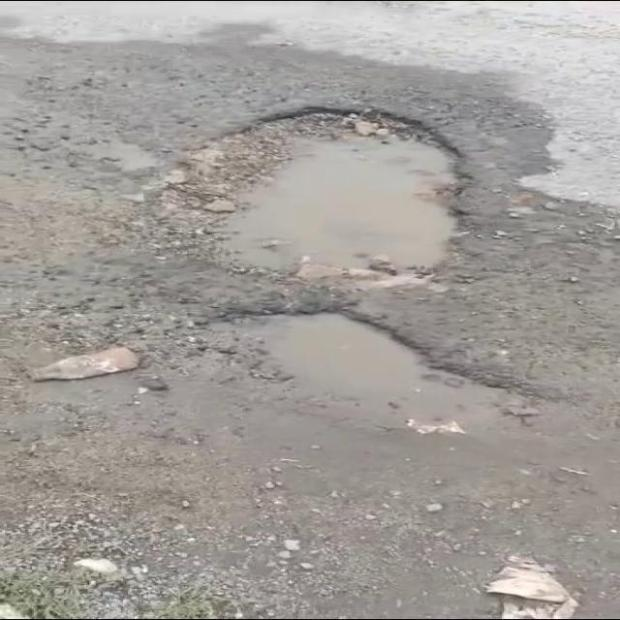lubang: (139, 112, 456, 286), (202, 315, 536, 435)
